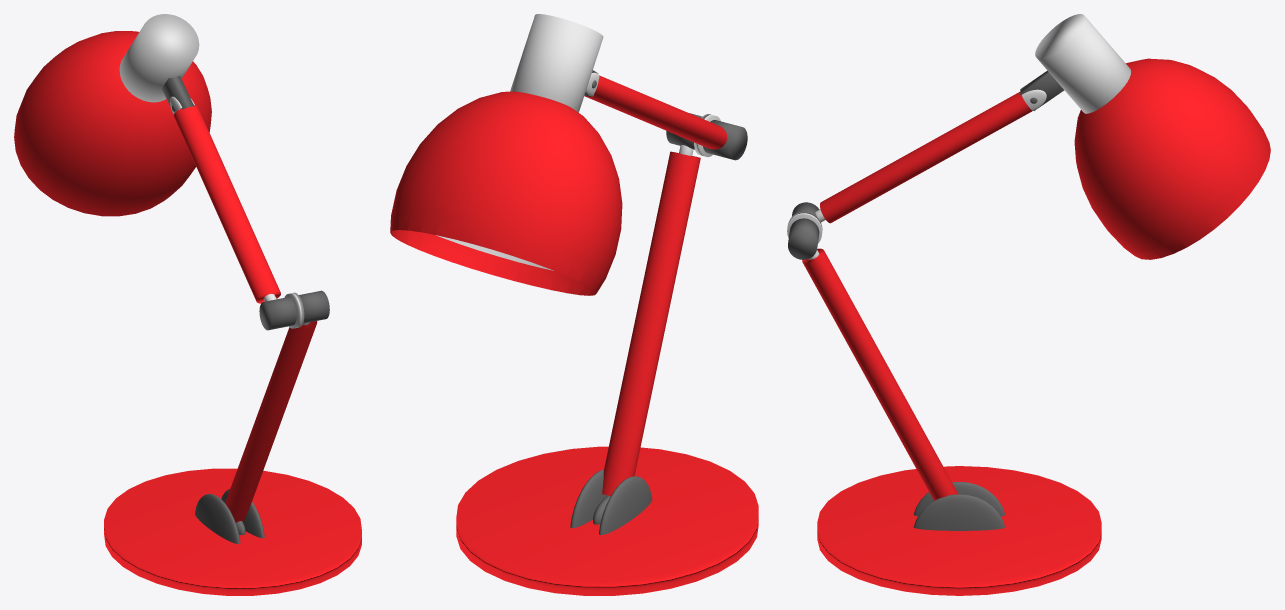
File: LampeBureauRouge.dae
The picture shows the model from 3 angles, left to right: view 1: azimuth 30°, elevation 25°; view 2: azimuth 150°, elevation 25°; view 3: azimuth 270°, elevation 25°; orthographic projection. The views are drawn at different scales.
Parts seen in each view (by area): view 1: DisqueSupport, AbatJour, Bras01.001, Bras01, Cylinder, DisqueLevier.001, ArticulationBras.002, ArticulationBras.001, Cube, DisqueLevier; view 2: AbatJour, DisqueSupport, Bras01, Cylinder, Bras01.001, DisqueLevier.001, DisqueLevier, ArticulationBras.002; view 3: AbatJour, DisqueSupport, Bras01, Cylinder, Bras01.001, DisqueLevier, ArticulationBras.001, DisqueLevier.001, Cube.
Boxes of the visible parts, x1,y1,x2,y2 form: DisqueSupport: [104, 468, 361, 595]; AbatJour: [14, 31, 211, 216]; Bras01.001: [173, 105, 280, 303]; Bras01: [225, 321, 317, 522]; Cylinder: [119, 14, 199, 102]; DisqueLevier.001: [195, 493, 240, 543]; ArticulationBras.002: [259, 297, 296, 330]; ArticulationBras.001: [299, 290, 329, 323]; Cube: [162, 76, 193, 109]; DisqueLevier: [221, 488, 264, 538]; AbatJour: [390, 91, 622, 295]; DisqueSupport: [456, 446, 758, 595]; Bras01: [602, 151, 700, 495]; Cylinder: [510, 14, 603, 112]; Bras01.001: [584, 75, 727, 149]; DisqueLevier.001: [599, 476, 652, 534]; DisqueLevier: [570, 469, 607, 528]; ArticulationBras.002: [703, 120, 747, 160]; AbatJour: [1074, 58, 1270, 259]; DisqueSupport: [817, 466, 1101, 595]; Bras01: [802, 248, 958, 500]; Cylinder: [1035, 14, 1131, 113]; Bras01.001: [820, 92, 1032, 223]; DisqueLevier: [913, 494, 1004, 530]; ArticulationBras.001: [788, 218, 819, 259]; DisqueLevier.001: [913, 482, 1005, 516]; Cube: [1020, 70, 1064, 110].
Bounding box in the file's own units: 4.48 × 8.06 × 9.43.
